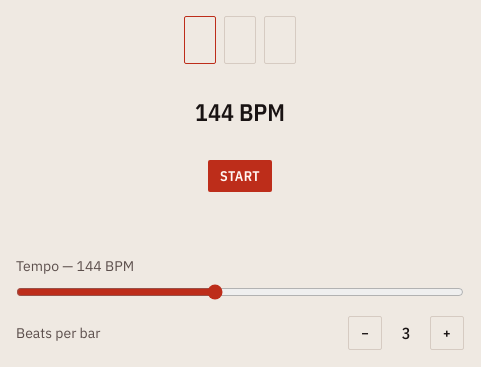
Test case: MetronomeView › starts the lookahead scheduler with the stored tempo and bar
Step 1. Click the button "Start" → (240, 176), box x1=208 y1=160 x2=272 y2=192
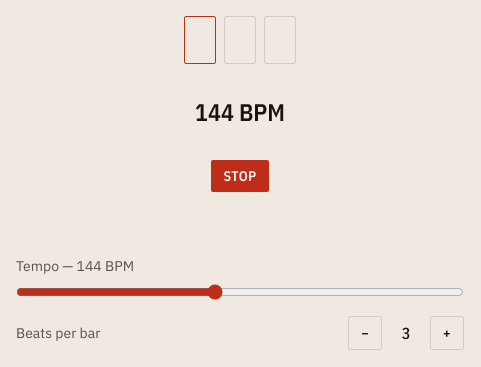
Now the button "Stop" is shown, box x1=212 y1=160 x2=268 y2=192
